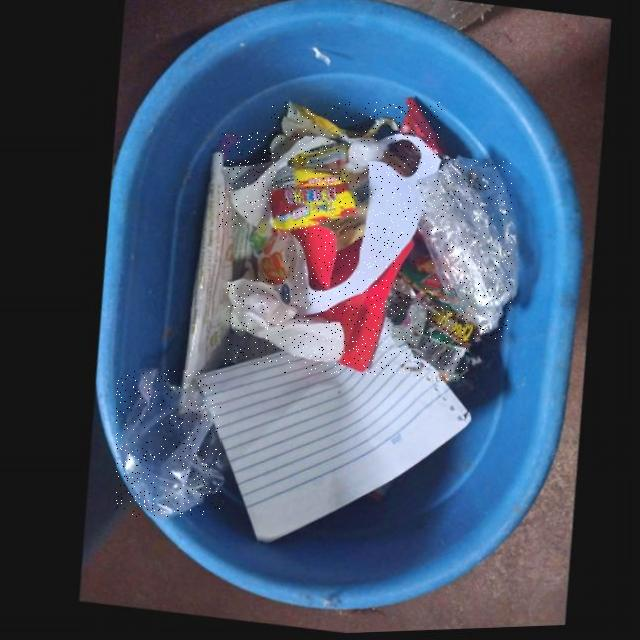paper: (284, 102, 442, 375), (220, 131, 344, 228), (226, 278, 337, 365)
plastic: (417, 160, 512, 339), (116, 371, 221, 517)
wrapper: (267, 144, 353, 233), (269, 104, 360, 163), (412, 315, 467, 381), (401, 236, 443, 297)
